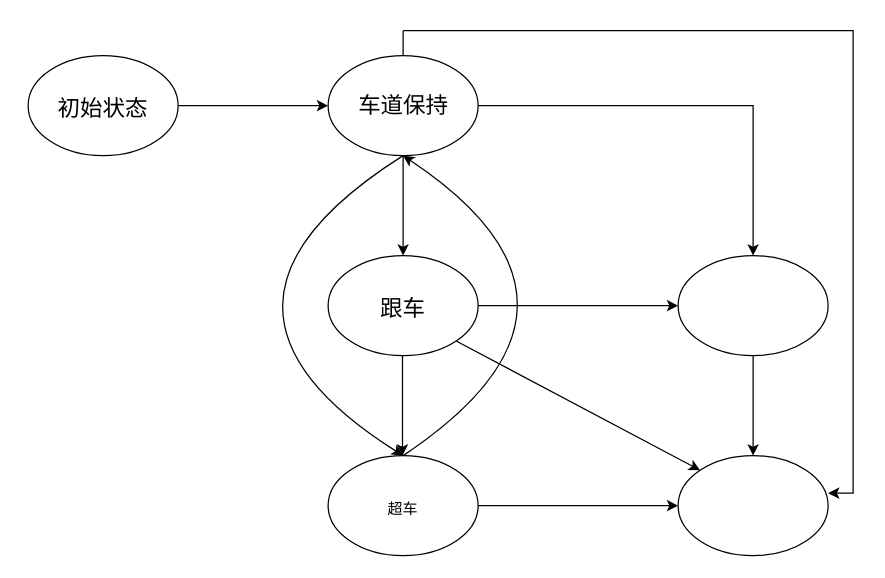
The diagram is 885 pixels wide and 578 high, and some of its shapes have lost their labels. The shapes that lost their labels are listed below. From the top down, each one's centre as x and y in pixels, then its label:
At (752,305): "换道".
At (752,505): "制动".
